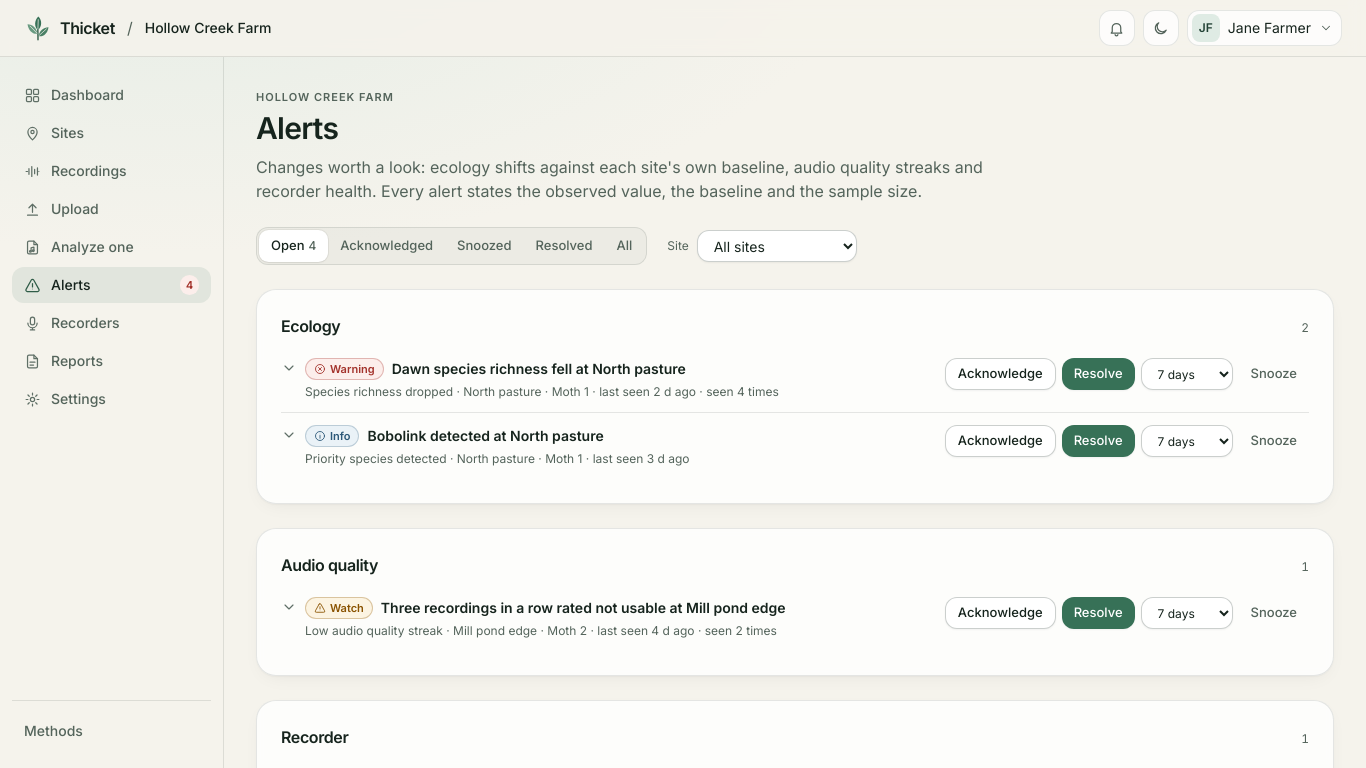
Scenario: alerts › snoozes and resolves alerts
The width and height of the screenshot is (1366, 768).
Select "3 days" in the 3rd dropdown named "Snooze for" at (1187, 613), box top-left (1141, 597), bottom-right (1233, 629)
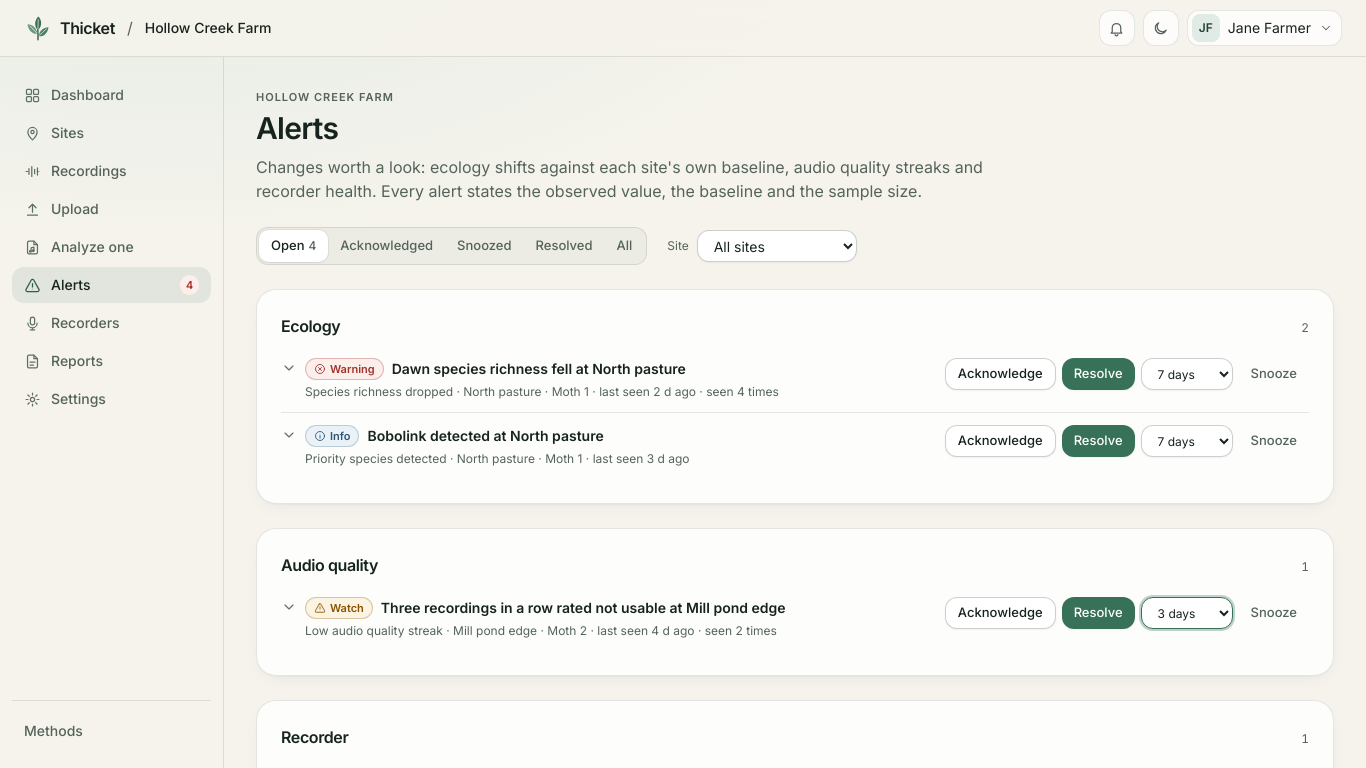
Click the 3rd button "Snooze" at (1274, 613), box top-left (1239, 597), bottom-right (1309, 629)
(page scrolled)
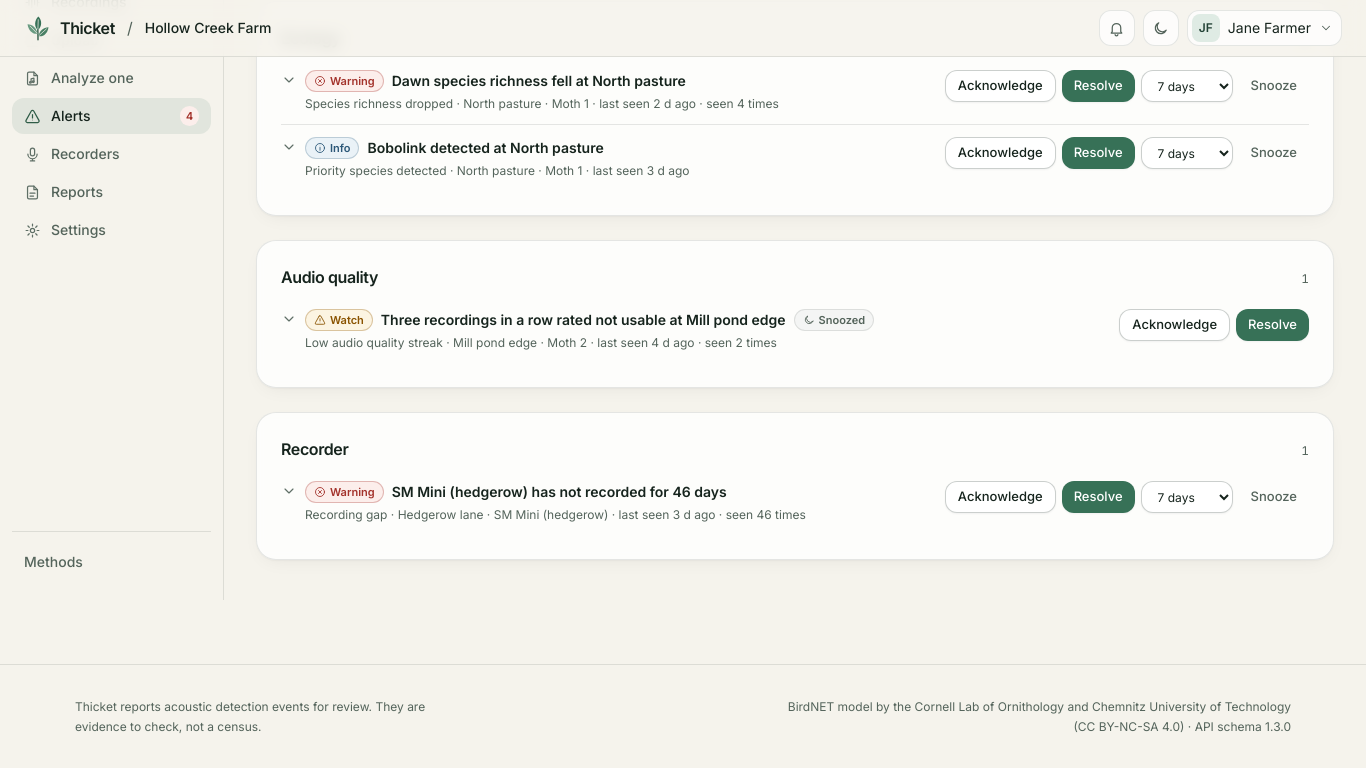
Expected: the text "Snoozed" is shown, top-left (794, 309), bottom-right (874, 331)
Click the 4th button "Resolve" at (1098, 497), box top-left (1062, 481), bottom-right (1135, 513)
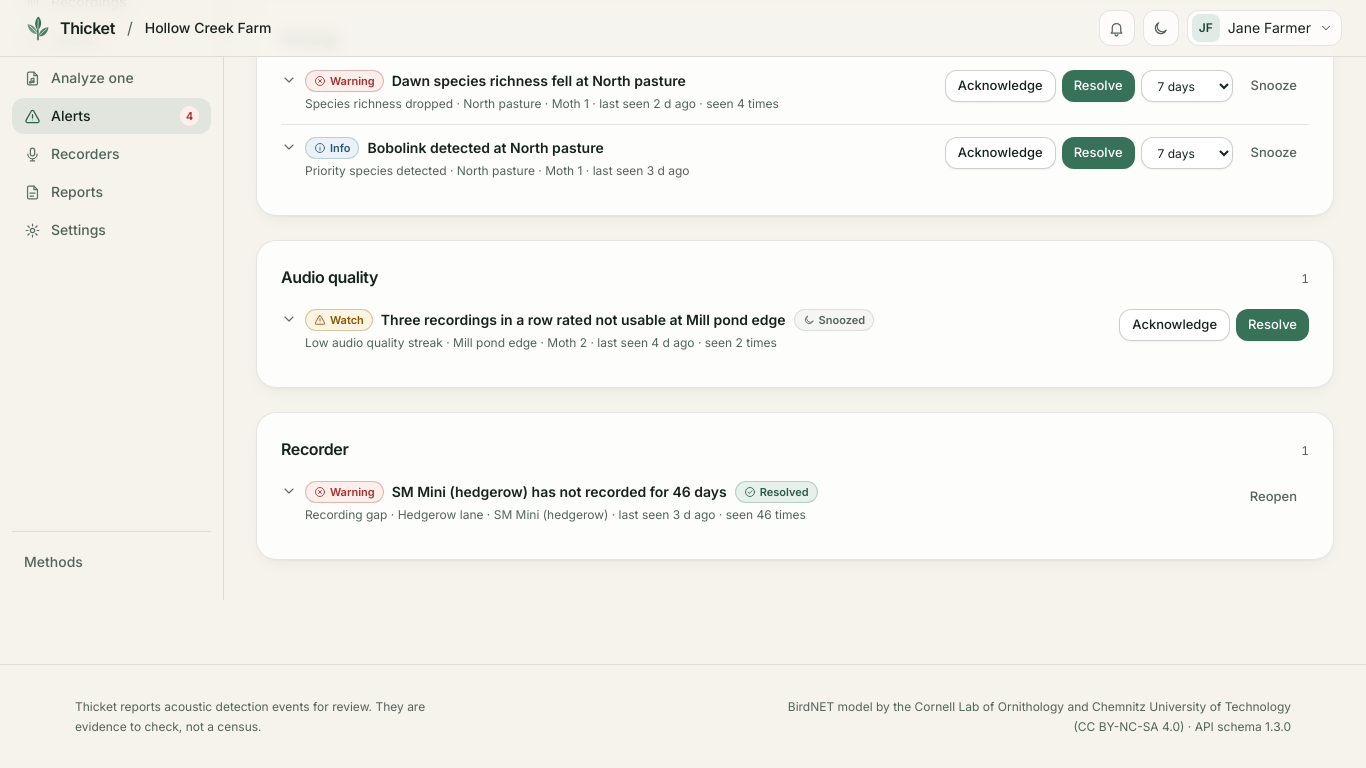
Expected: the text "Resolved" is shown, top-left (735, 481), bottom-right (818, 503)
